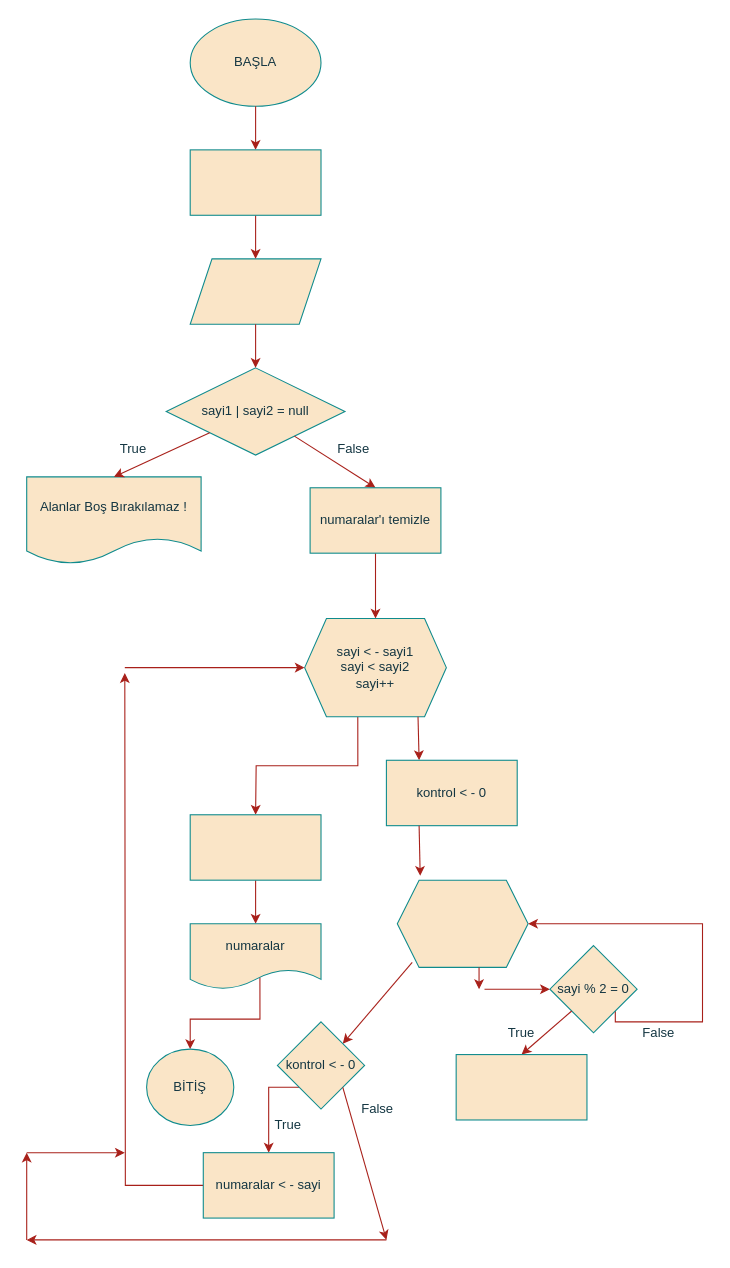
This 730x1268 diagram has some shape labels left out. Each missing label, with the centre of its shape:
"ArrayList numaralar" goes at (x=255, y=182).
"i < - 2 i < sayi i++" goes at (x=462, y=923).
"kontrol < - 1 break" goes at (x=521, y=1086).
"sayi1 , sayi2" goes at (x=255, y=291).
"string asallar < - numaralar" goes at (x=255, y=847).
